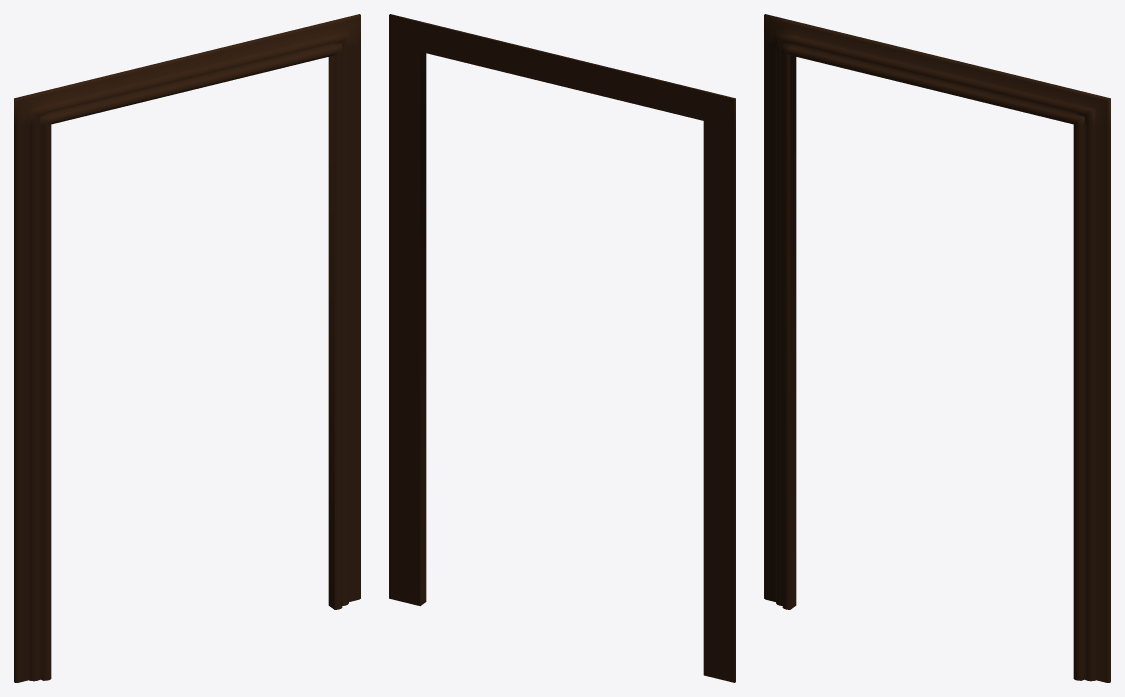
The model's file is MiscDoorFrame.fbx.
The picture shows the model from 3 angles, left to right: view 1: azimuth 30°, elevation 25°; view 2: azimuth 150°, elevation 25°; view 3: azimuth 330°, elevation 25°; orthographic projection.
Parts seen in each view (by area): view 1: DoorFrameUVd:polySurface3; view 2: DoorFrameUVd:polySurface3; view 3: DoorFrameUVd:polySurface3.
Part boxes in pixels (<box>): DoorFrameUVd:polySurface3: <box>14,14,360,682</box>; DoorFrameUVd:polySurface3: <box>389,14,735,682</box>; DoorFrameUVd:polySurface3: <box>764,14,1110,682</box>.
Size of the model in its own units: 97.88 by 158 by 3.31.
